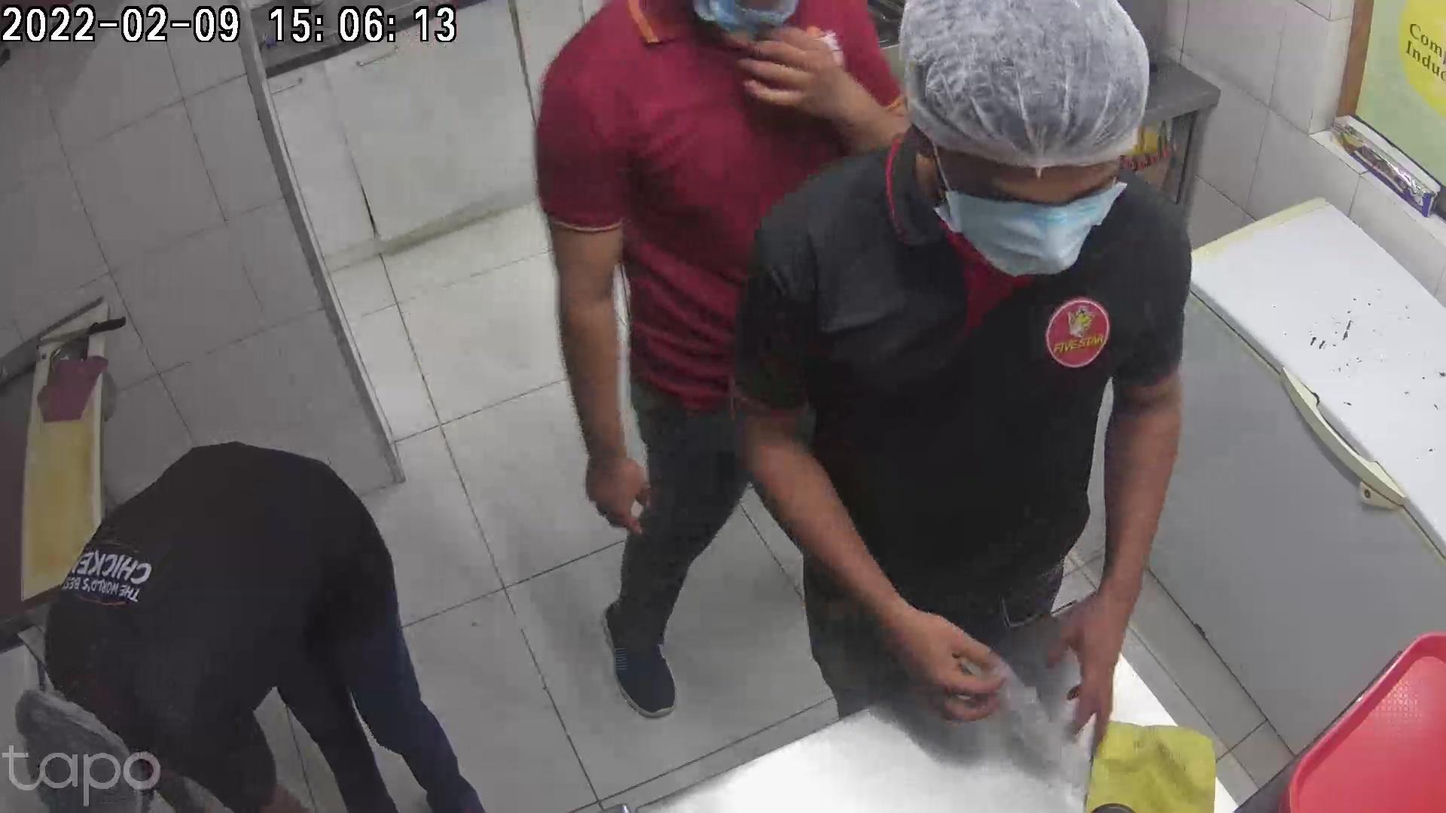no_gloves: (750, 27, 855, 118), (586, 425, 649, 533)
